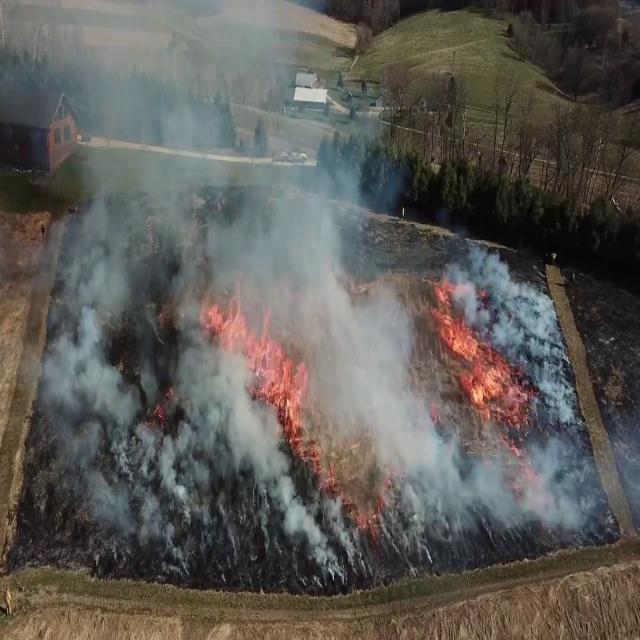Fire: (228, 298, 314, 441), (430, 286, 520, 422)
Smoke: (24, 7, 347, 579), (317, 253, 587, 570)
